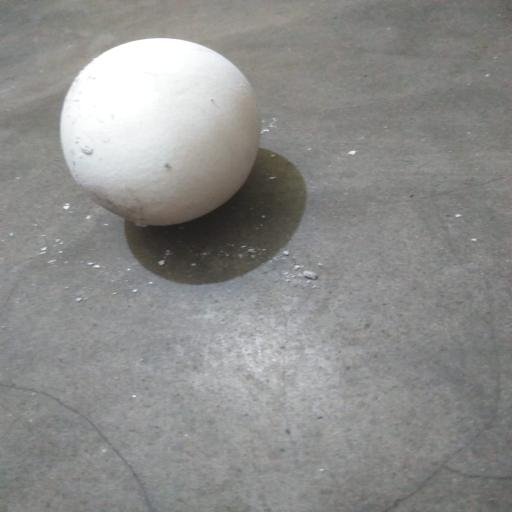telur: (60, 38, 261, 226)
